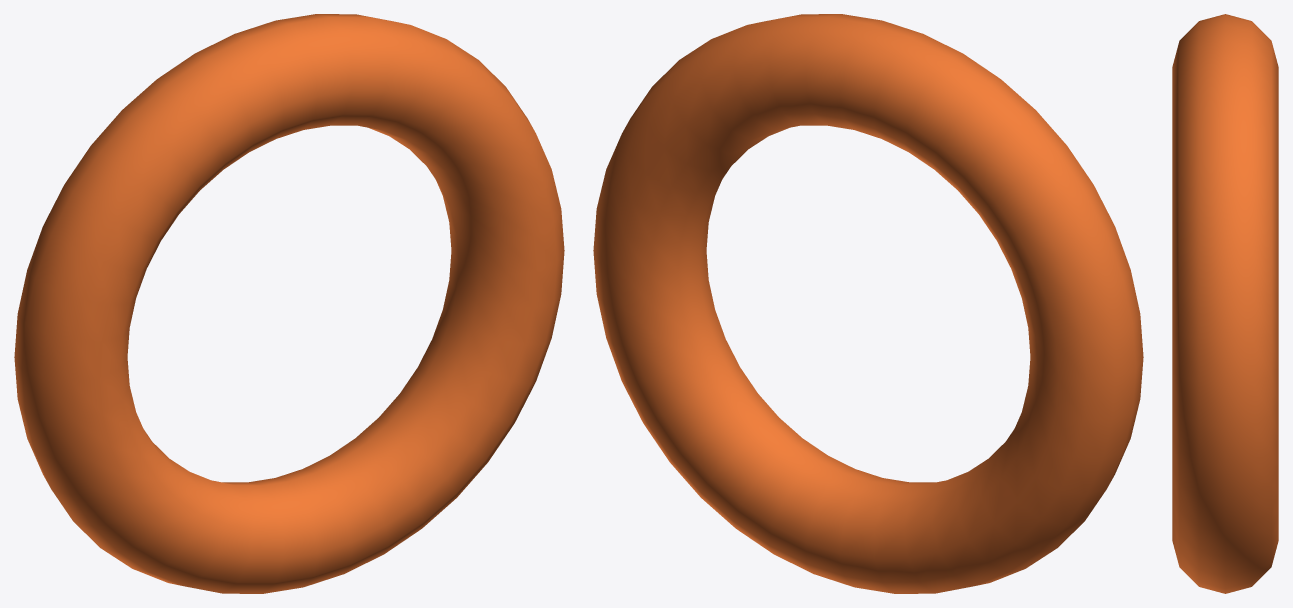
File: lifebuoy.glb
3 renders of one model, left to right at view 1: azimuth 30°, elevation 25°; view 2: azimuth 150°, elevation 25°; view 3: azimuth 270°, elevation 25°, orthographic. The views are drawn at different scales.
Visible parts, largest first — view 1: Lifebuoy; view 2: Lifebuoy; view 3: Lifebuoy.
Boxes of the visible parts, box(x1,y1,x2,y2) form: Lifebuoy: box(14, 14, 564, 593); Lifebuoy: box(593, 14, 1143, 593); Lifebuoy: box(1172, 14, 1278, 593).
Bounding box in the file's own units: 0.71 × 0.71 × 0.13.
